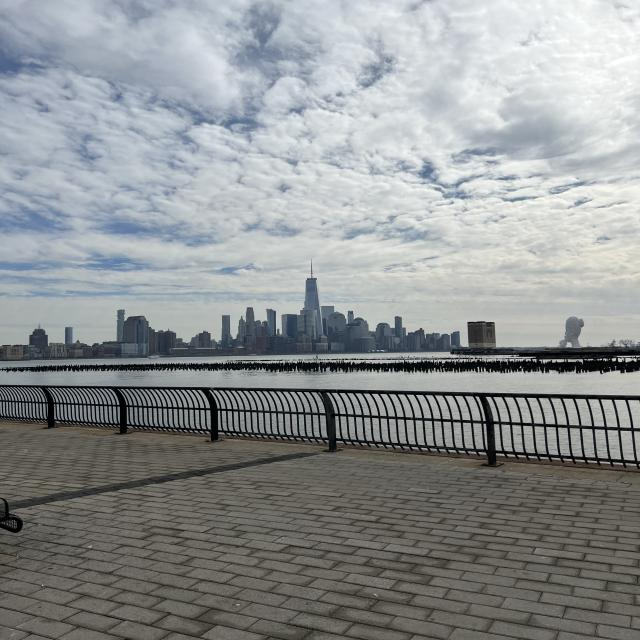WTC: (303, 258, 320, 310)
